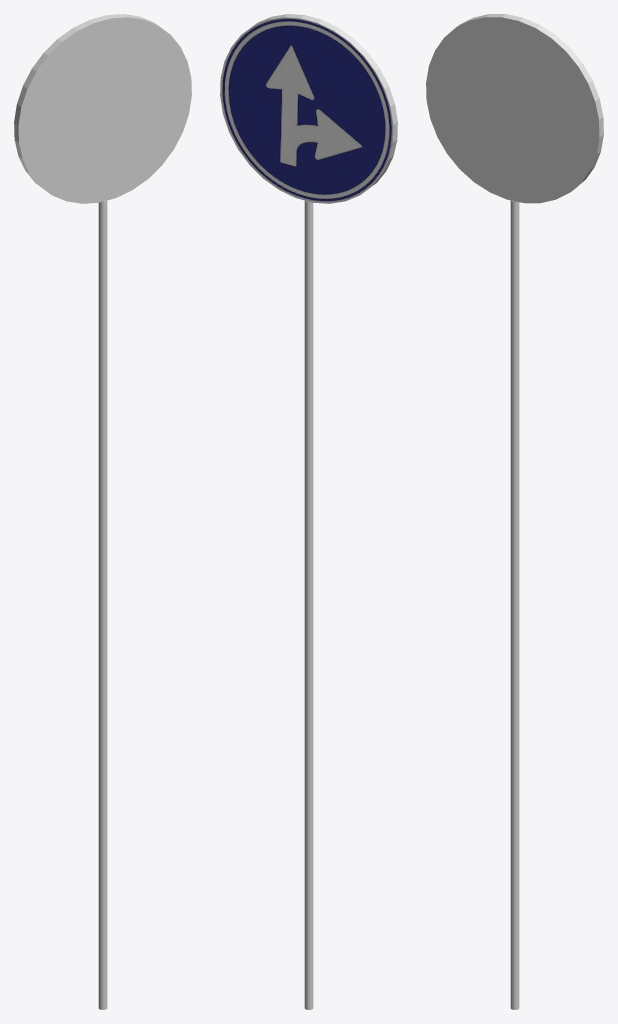
File: ilsag.dae
3 renders of one model, left to right at view 1: azimuth 30°, elevation 25°; view 2: azimuth 150°, elevation 25°; view 3: azimuth 330°, elevation 25°, orthographic.
Parts seen in each view (by area): view 1: Cylinder_001, Cylinder; view 2: Cylinder_001, Cylinder; view 3: Cylinder_001, Cylinder.
Boxes of the visible parts, bbox=[...] form: Cylinder_001: bbox=[14, 14, 191, 203]; Cylinder: bbox=[98, 200, 107, 1009]; Cylinder_001: bbox=[220, 14, 397, 203]; Cylinder: bbox=[304, 200, 313, 1009]; Cylinder_001: bbox=[426, 14, 603, 203]; Cylinder: bbox=[510, 200, 519, 1009].
Size of the model in its own units: 0.4489 by 0.02 by 2.45.
1 material, 1 textured.
